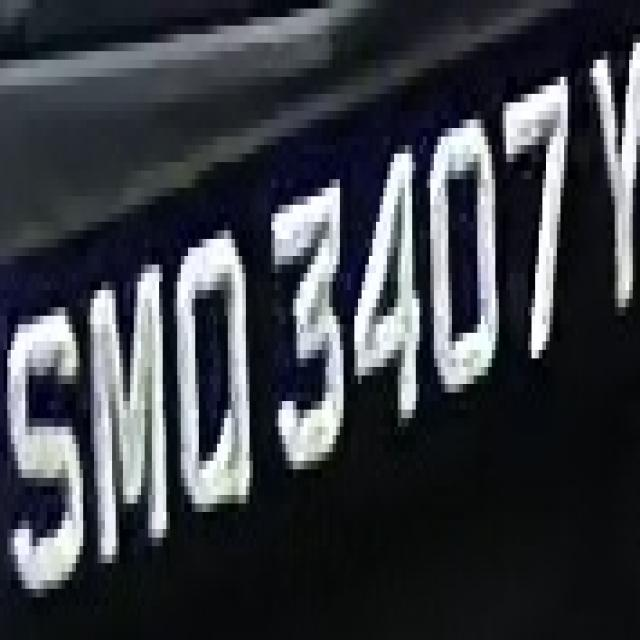0: (419, 94, 506, 418)
3: (256, 162, 351, 478)
4: (351, 128, 423, 452)
7: (503, 68, 582, 376)
M: (83, 256, 177, 580)
Q: (178, 213, 260, 538)
S: (0, 282, 87, 597)
Y: (586, 8, 640, 316)
